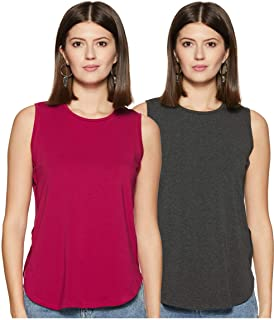tshirt: (20, 96, 148, 312)
